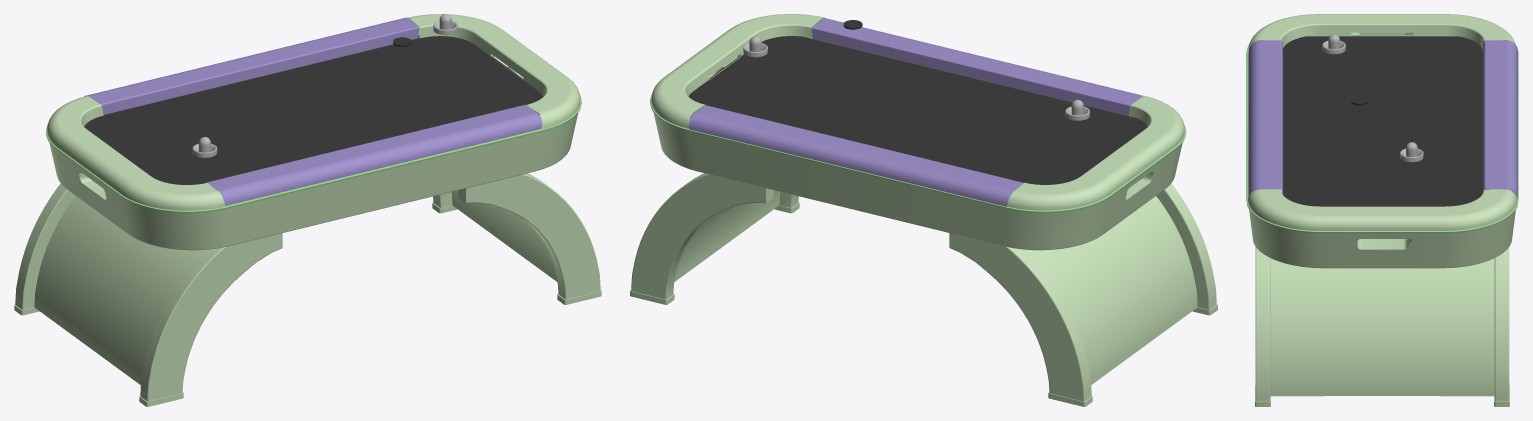
The model's file is Sjekkass.fbx.
3 views of the same model, side by side, from view 1: azimuth 30°, elevation 25°; view 2: azimuth 150°, elevation 25°; view 3: azimuth 270°, elevation 25° (orthographic). The views are drawn at different scales.
Parts seen in each view (by area): view 1: fot_2, Cube_59; view 2: fot_2, Cube_59; view 3: fot_2, Cube_59, Mallet2_8, Mallet_5.
Part boxes in pixels (<box>): fot_2: <box>14,14,601,406</box>; Cube_59: <box>84,35,543,184</box>; fot_2: <box>630,14,1217,406</box>; Cube_59: <box>688,36,1147,184</box>; fot_2: <box>1246,14,1518,406</box>; Cube_59: <box>1282,36,1489,206</box>; Mallet2_8: <box>1322,34,1345,54</box>; Mallet_5: <box>1400,142,1423,162</box>.
Size of the model in its own units: 196 by 105 by 102.
